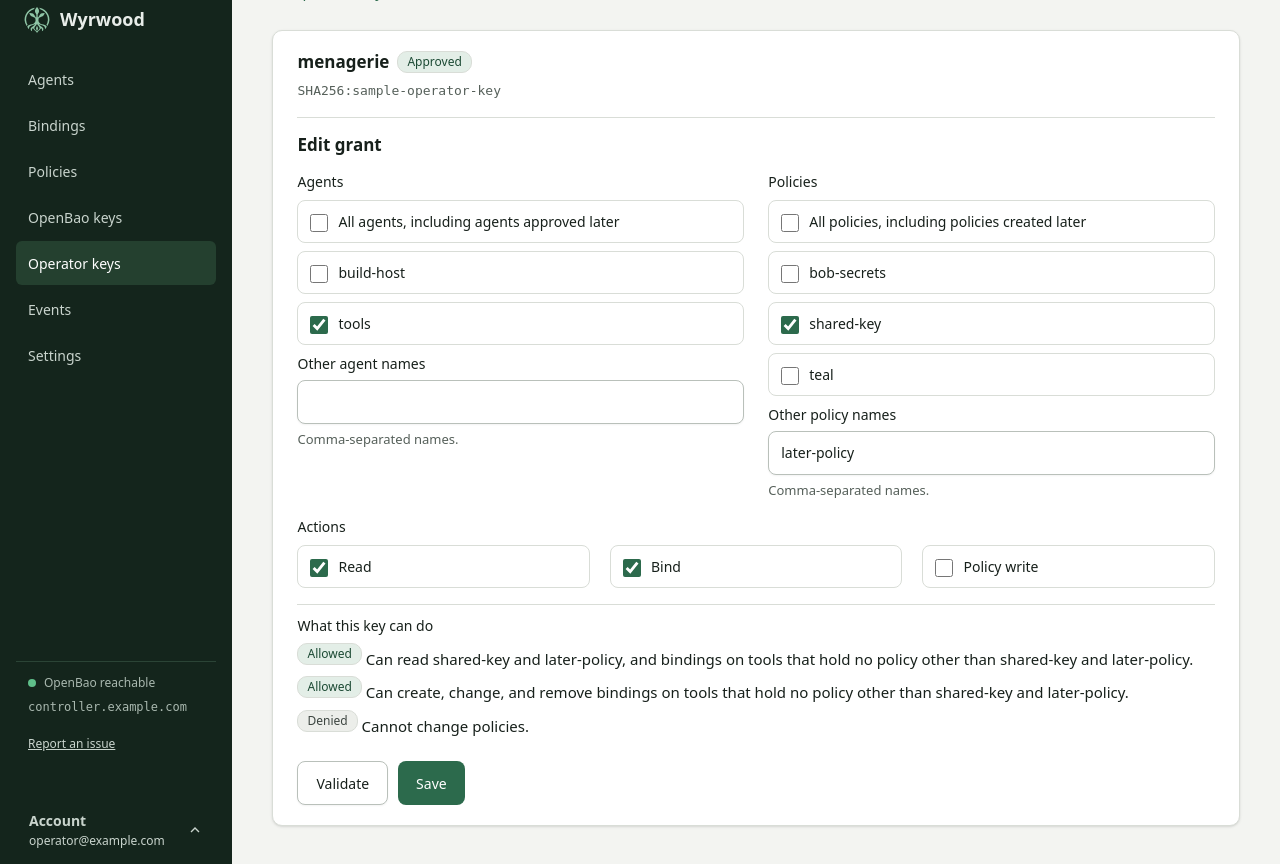
Test: validates without saving
(page scrolled)
Click the button "Validate". click: (343, 783)
box: [298,761,388,805]
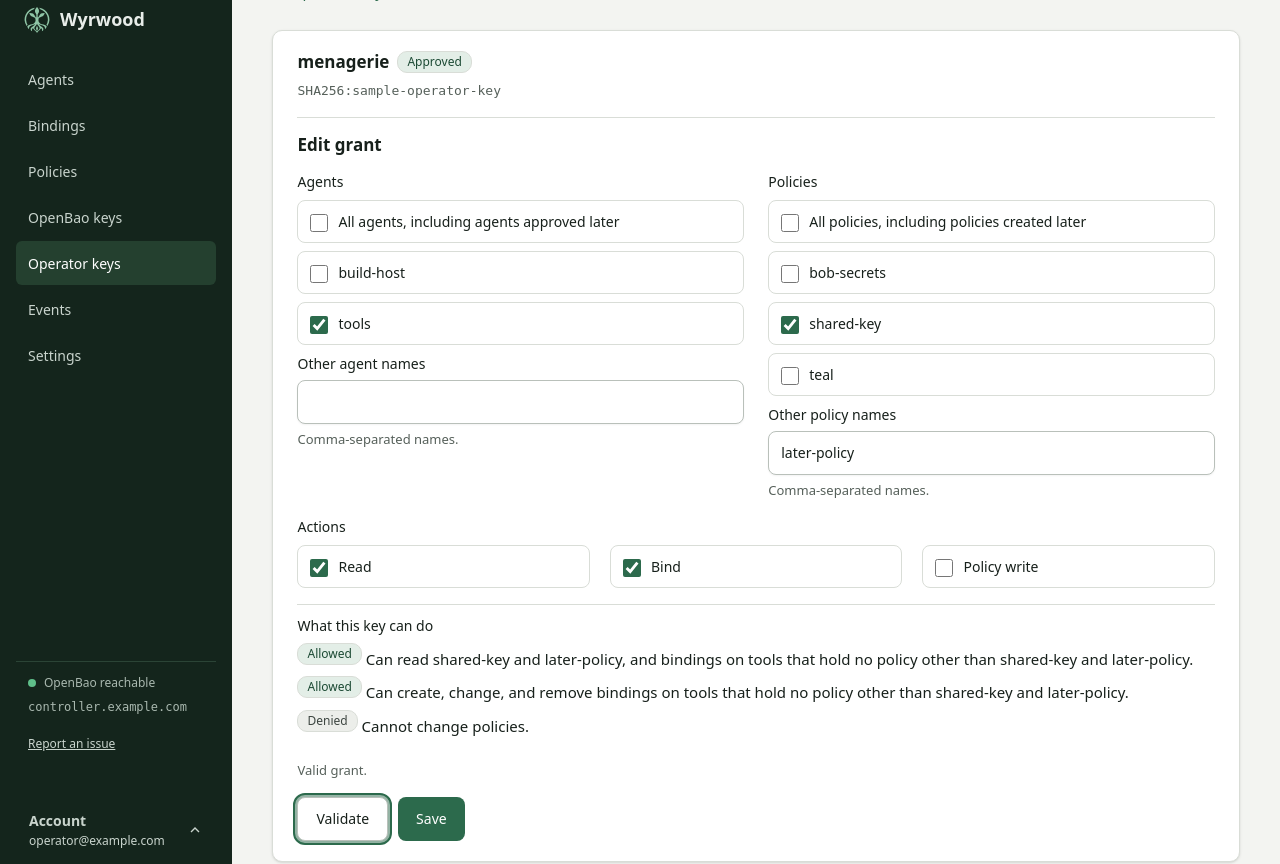
Expected: the message reads "Valid grant.", [298,761,367,779]
Click the checkbox labelled "Read". click: (320, 568)
box: [310,559,328,577]
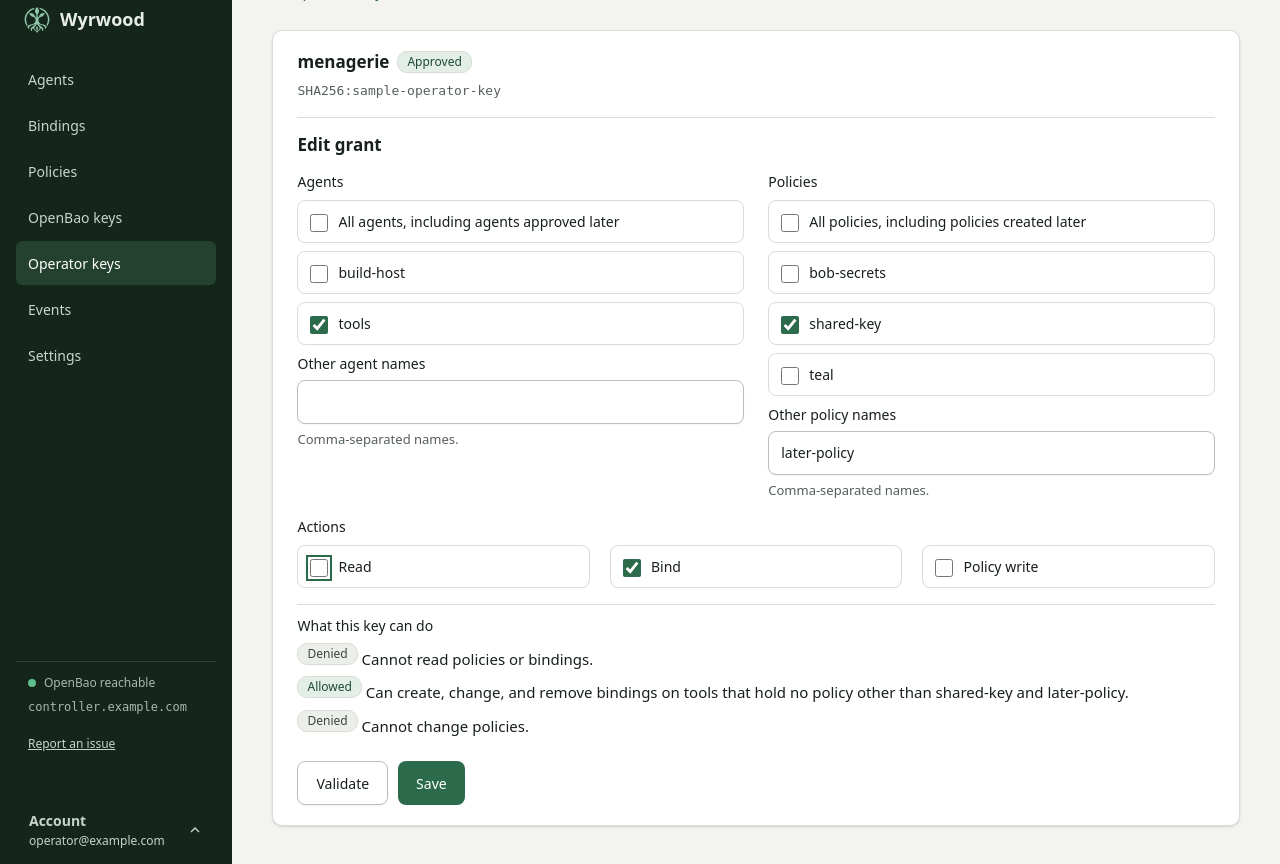
Expected: the text "Valid grant." is gone
Click the checkbox labelled "Bind". click: (632, 568)
box: [623,559,641,577]
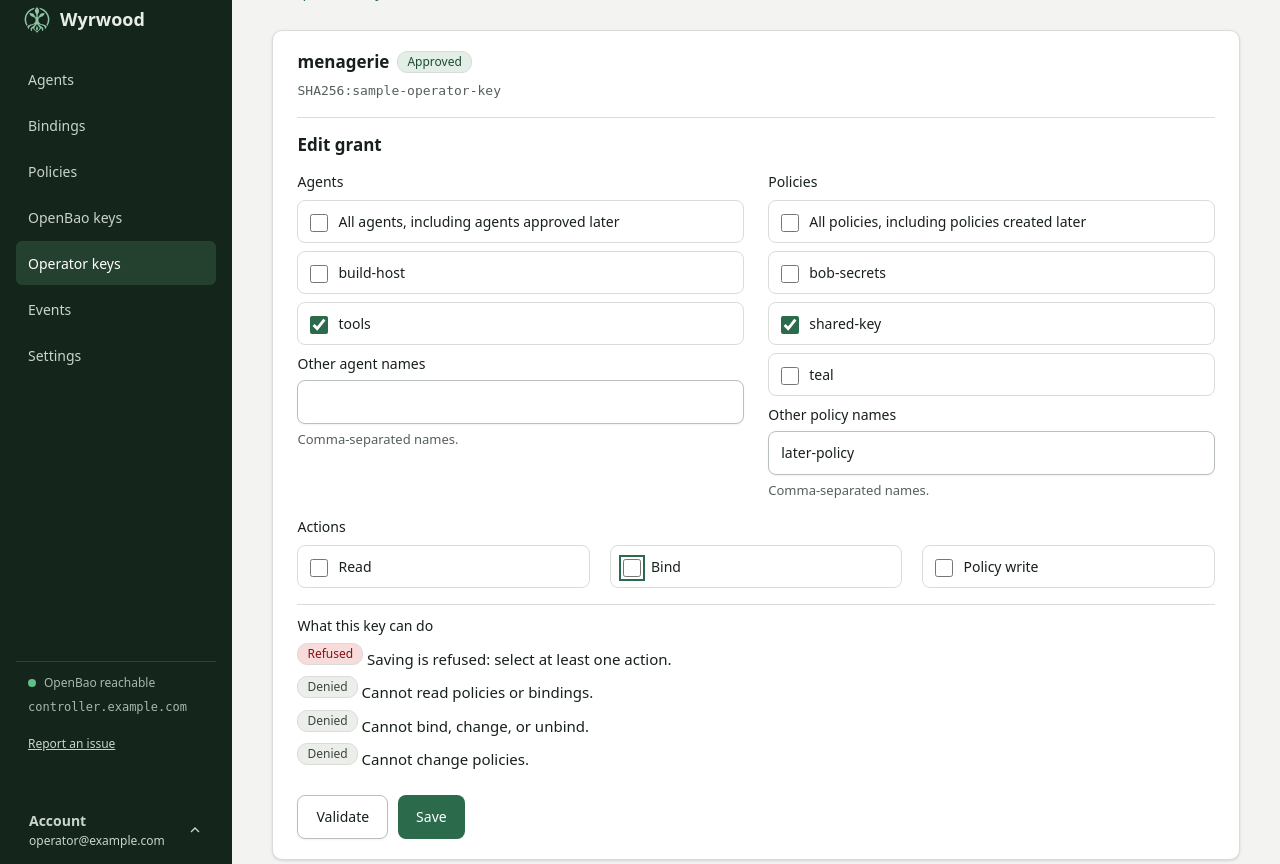
Click the button "Validate". click: (343, 817)
box: [298,795,388,839]
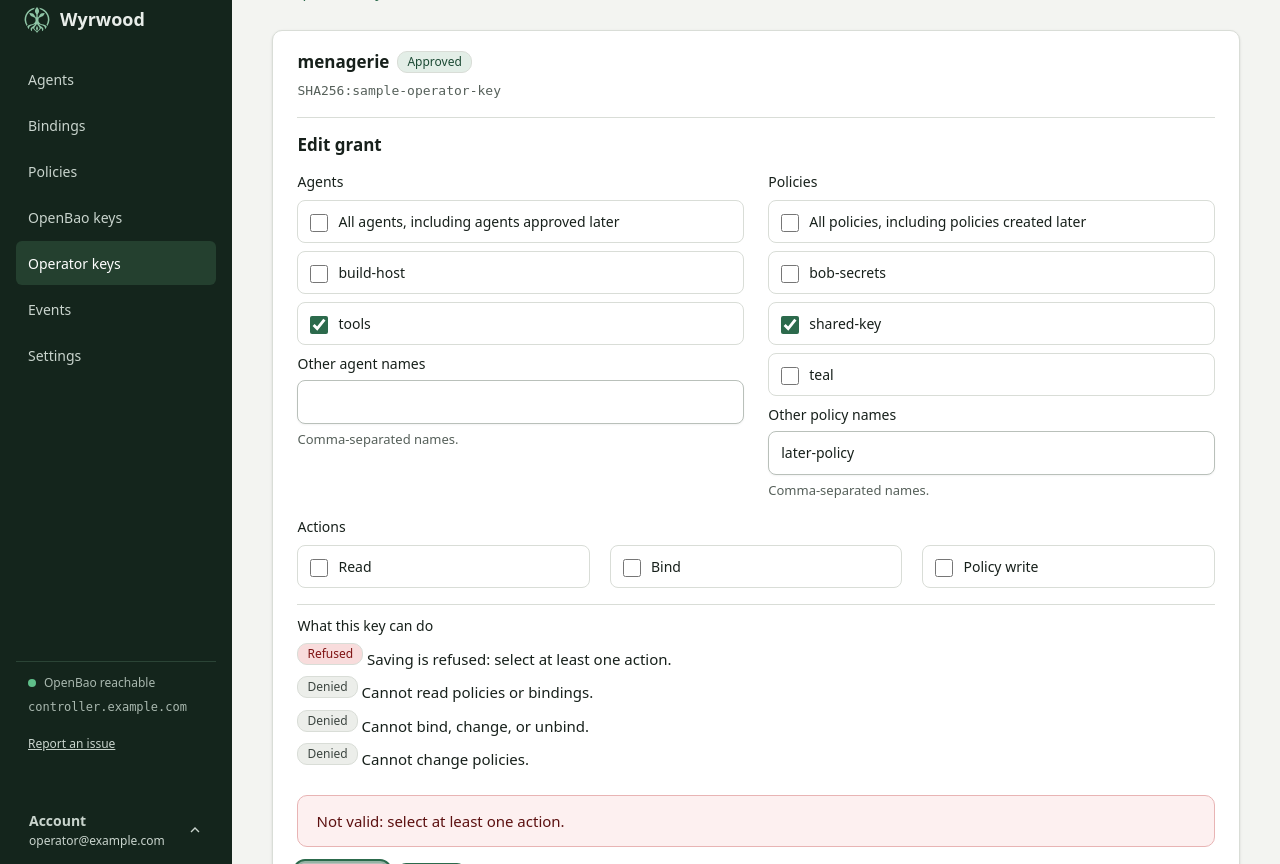
Expected: the message reads "Not valid: select at least one action.", [316,811,565,831]
